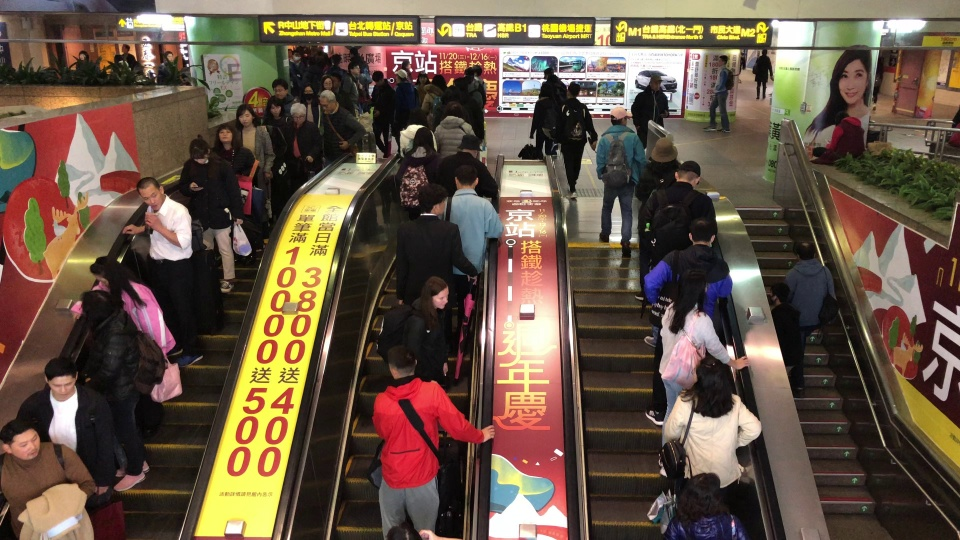person_head: (678, 473, 721, 514), (0, 423, 42, 461), (43, 358, 79, 400), (675, 269, 710, 312), (87, 255, 126, 291), (381, 344, 418, 380), (416, 275, 449, 314), (695, 359, 730, 394), (78, 292, 111, 326), (415, 183, 448, 215), (136, 177, 165, 210), (407, 127, 436, 158), (688, 219, 718, 248), (453, 165, 480, 192), (185, 136, 210, 164), (651, 137, 677, 163), (675, 160, 701, 186), (768, 281, 790, 307), (317, 90, 338, 113), (459, 134, 481, 155), (233, 106, 255, 126), (217, 126, 235, 150), (609, 107, 629, 126), (270, 77, 288, 97), (796, 242, 816, 260), (289, 102, 306, 122), (266, 99, 283, 116), (834, 110, 851, 127), (567, 80, 581, 99), (648, 74, 662, 91), (444, 102, 460, 116), (301, 85, 314, 102), (394, 68, 407, 83), (347, 63, 360, 77), (432, 74, 447, 86), (371, 70, 383, 84), (452, 76, 466, 88), (445, 85, 456, 99), (77, 49, 89, 61), (717, 54, 729, 66), (417, 72, 430, 83), (163, 50, 174, 62), (348, 46, 359, 58), (543, 67, 553, 80), (330, 54, 341, 65), (472, 65, 483, 76), (411, 115, 423, 125), (400, 60, 411, 70), (462, 68, 473, 78), (538, 88, 548, 98), (292, 50, 301, 61), (874, 56, 884, 65), (113, 54, 124, 62), (121, 43, 130, 52), (759, 49, 768, 56)
person_vbox: (370, 344, 495, 539), (655, 270, 750, 475), (74, 292, 166, 494), (643, 219, 731, 425), (73, 255, 173, 433), (121, 177, 207, 366), (639, 160, 719, 346), (662, 359, 764, 497), (16, 358, 115, 496), (0, 420, 99, 540), (180, 136, 244, 292), (393, 184, 476, 299), (374, 275, 456, 377), (596, 106, 648, 257), (436, 165, 504, 277), (211, 125, 262, 261), (635, 138, 679, 290), (232, 105, 277, 248), (663, 473, 747, 540), (784, 241, 838, 337), (556, 79, 598, 197), (767, 282, 807, 391), (439, 134, 498, 205), (394, 126, 439, 215), (316, 90, 365, 159), (810, 110, 867, 166), (630, 73, 671, 150), (700, 53, 736, 134), (392, 68, 421, 157), (368, 70, 396, 157), (528, 88, 563, 154), (436, 104, 480, 156), (287, 102, 319, 166), (397, 114, 437, 159), (264, 98, 293, 152), (420, 73, 447, 128), (264, 76, 295, 122), (751, 48, 775, 100), (868, 55, 886, 111), (462, 69, 487, 105), (299, 84, 320, 124), (343, 63, 363, 103), (414, 72, 431, 119), (541, 69, 567, 99), (471, 64, 489, 107), (451, 76, 472, 108), (346, 45, 369, 72), (160, 50, 177, 83), (118, 43, 138, 71), (325, 53, 348, 75), (74, 49, 96, 71), (439, 86, 460, 108), (110, 54, 131, 72), (400, 63, 414, 83), (291, 49, 303, 65)
